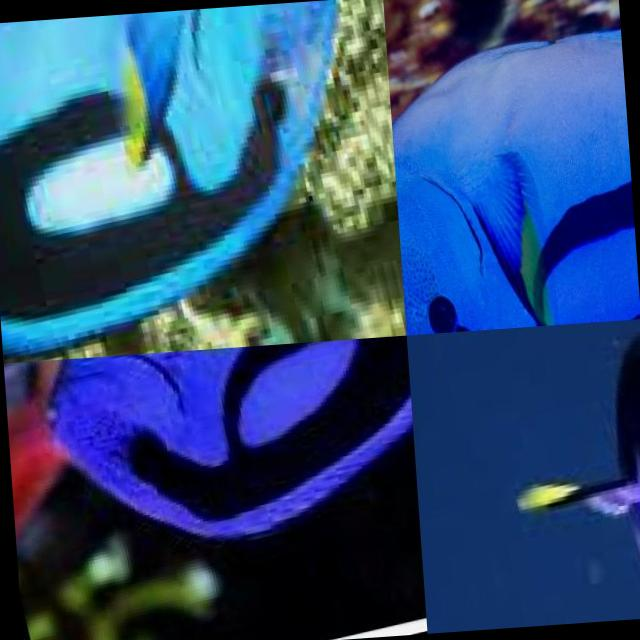BlueTang: (0, 0, 405, 362), (2, 334, 422, 609), (381, 0, 640, 334), (417, 317, 640, 632)
